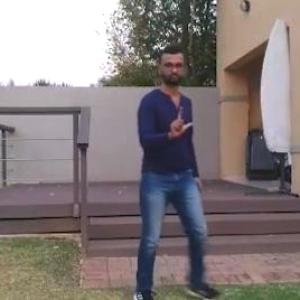land_hand: (160, 100, 196, 144)
